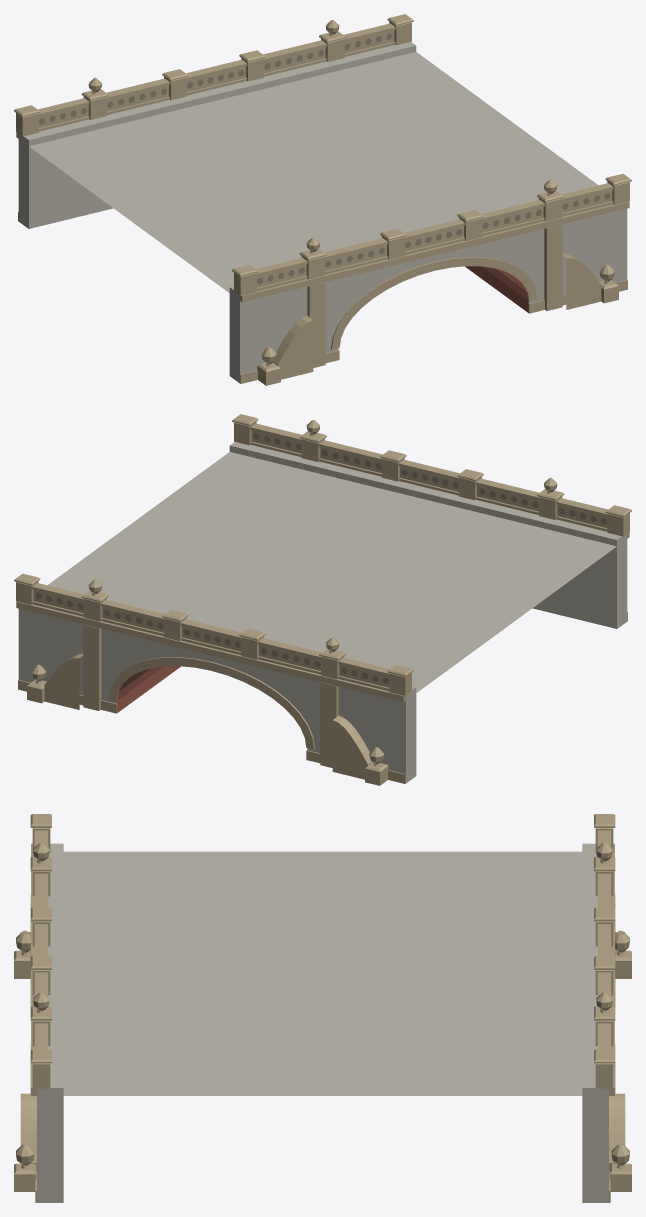
File: nyc-greyshot-arch.glb
3 views of the same model, one above another, from view 1: azimuth 30°, elevation 25°; view 2: azimuth 150°, elevation 25°; view 3: azimuth 270°, elevation 25° (orthographic). The views are drawn at different scales.
Parts seen in each view (by area): view 1: Greyshot Arch; view 2: Greyshot Arch; view 3: Greyshot Arch.
Part boxes in pixels (left/top/right/bottom): Greyshot Arch: left=14, top=14, right=631, bottom=385; Greyshot Arch: left=14, top=414, right=631, bottom=785; Greyshot Arch: left=14, top=814, right=631, bottom=1202.
Bounding box in the file's own units: 19.82 × 6.1 × 20.96.
